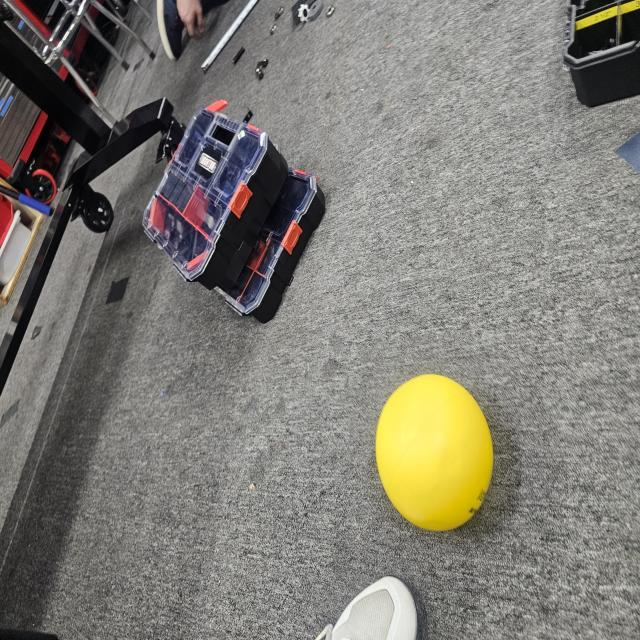Fuel: (372, 368, 498, 538)
